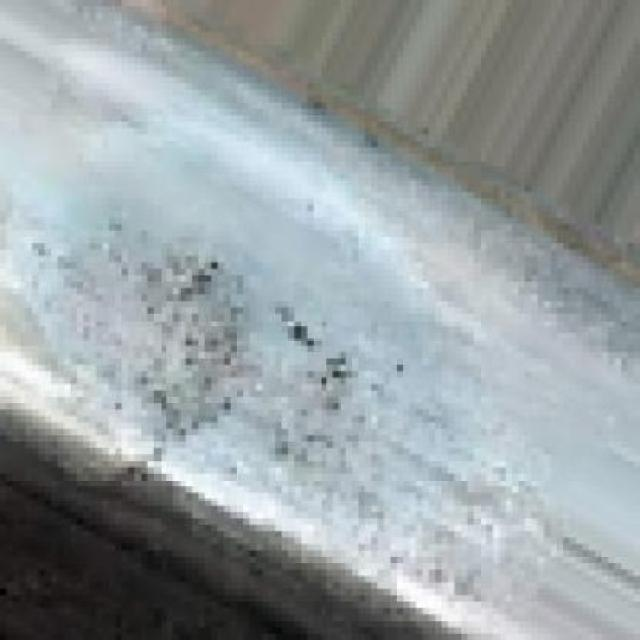defective: (5, 62, 463, 605)
